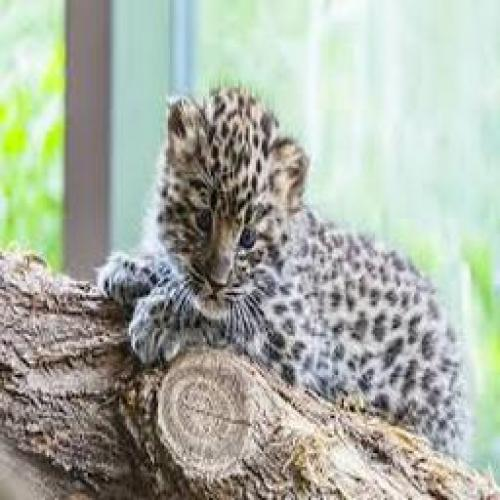amur_leopard-endangered: (98, 85, 474, 453)
